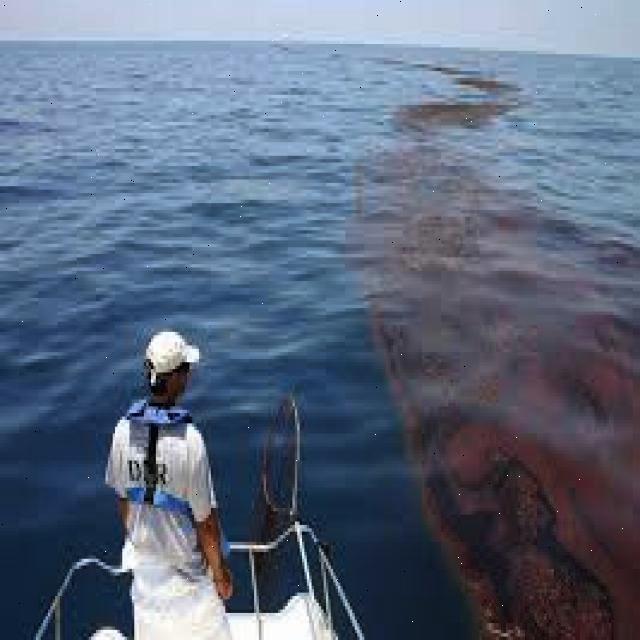oil: (366, 64, 640, 636)
